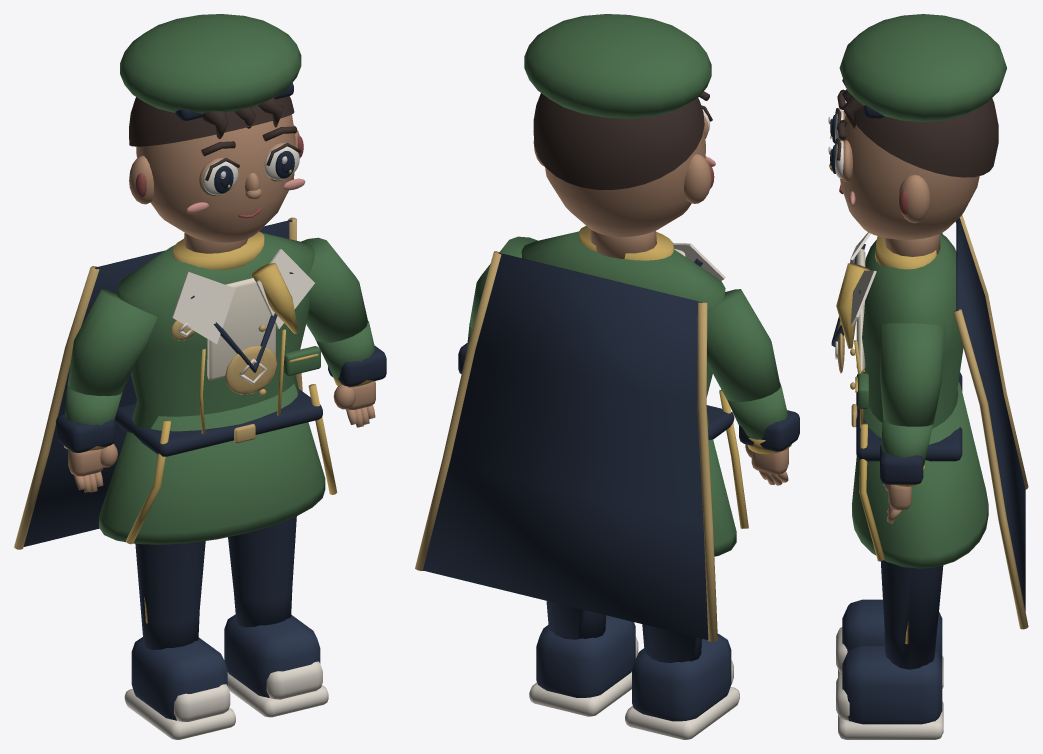
Rendered from npc_region_lieutenant_1.glb.
The picture shows the model from 3 angles, left to right: view 1: azimuth 30°, elevation 25°; view 2: azimuth 150°, elevation 25°; view 3: azimuth 270°, elevation 25°; orthographic projection. The views are drawn at different scales.
Parts seen in each view (by area): view 1: figure.023; view 2: figure.023; view 3: figure.023.
Boxes of the visible parts, box(x1,y1,x2,y2) form: figure.023: box(14, 14, 386, 739); figure.023: box(415, 14, 799, 739); figure.023: box(828, 14, 1028, 739).
Bounding box in the file's own units: 0.8513 × 1.72 × 0.4637.
